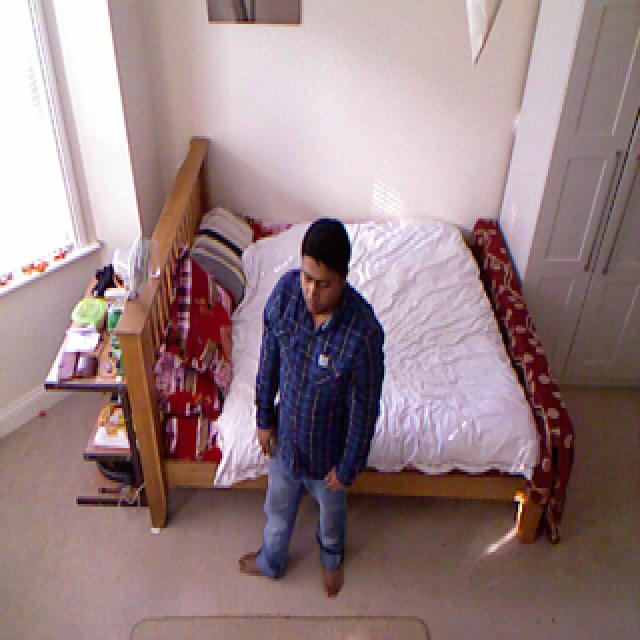standing: (241, 203, 390, 602)
